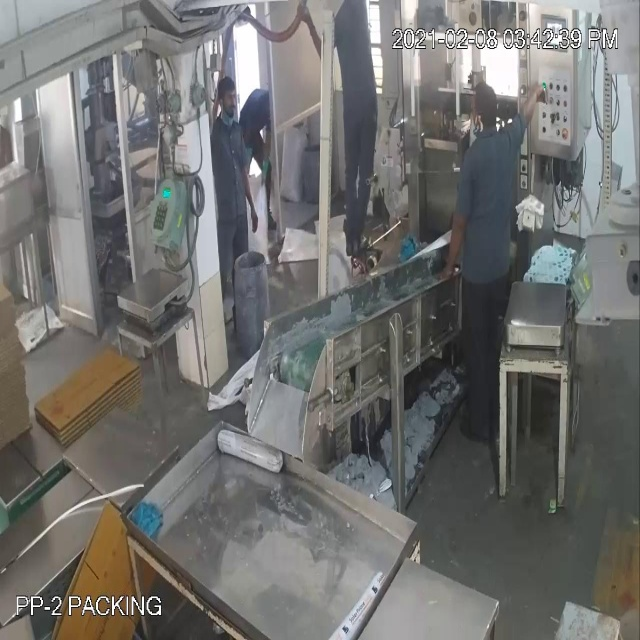Sin_guantes: (426, 196, 471, 292), (512, 76, 550, 137)
